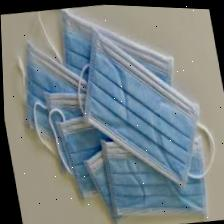mask: (6, 2, 222, 224)
